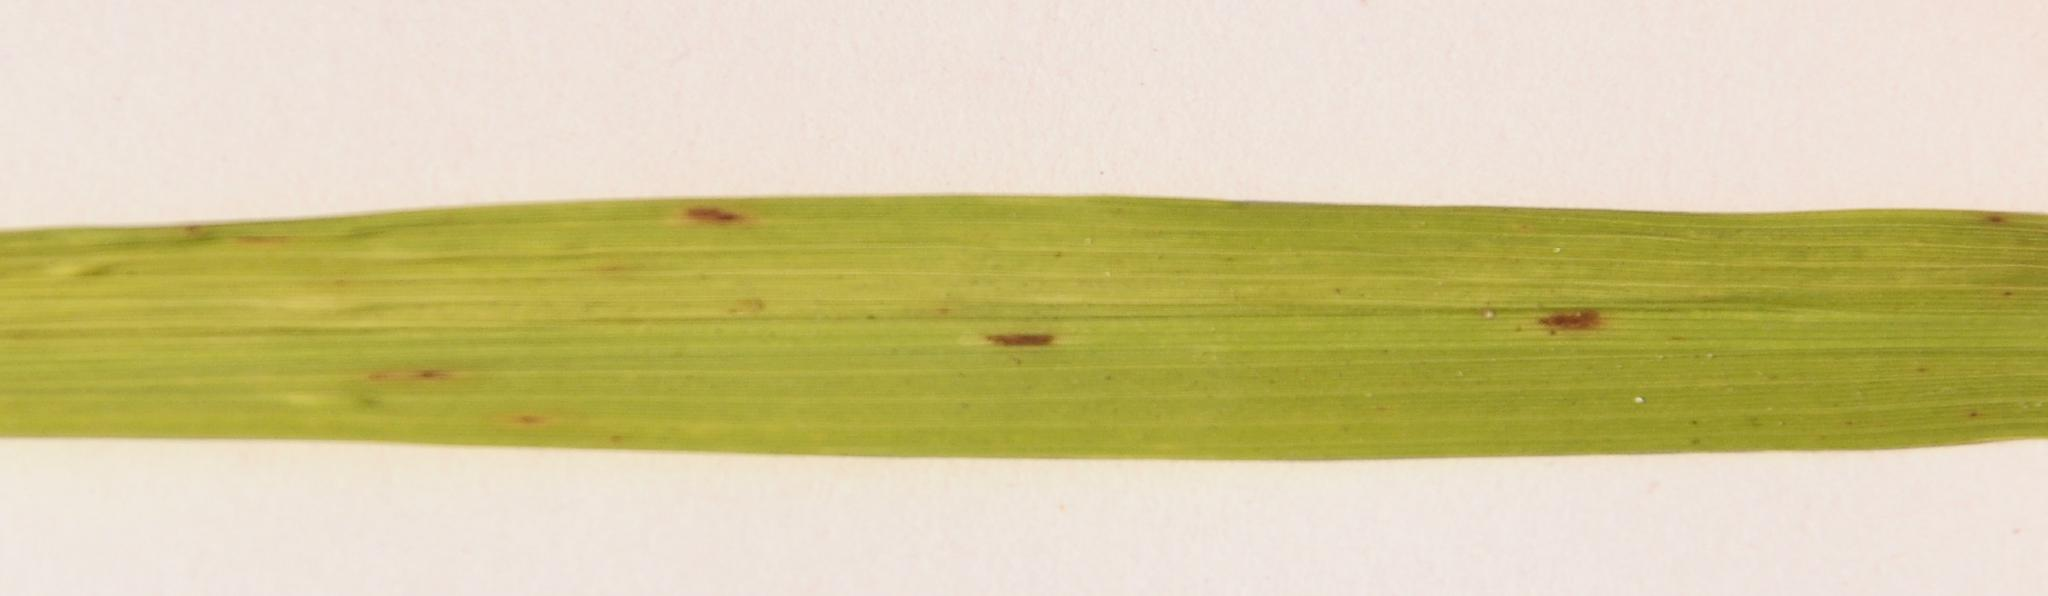0 BrownSpot: (1514, 282, 1667, 367), (956, 294, 1084, 371), (648, 183, 771, 256)
